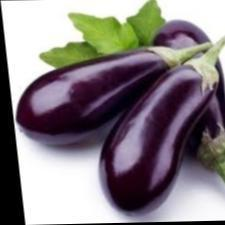eggplant: (8, 39, 224, 214)
